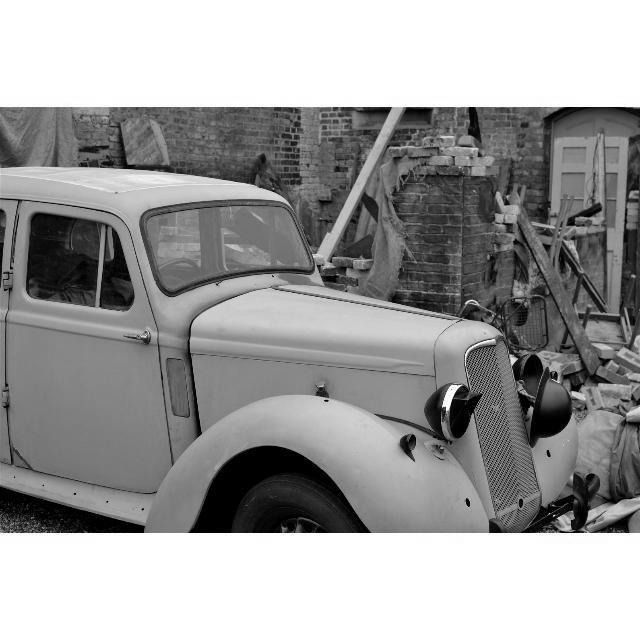roof-dent: (1, 133, 278, 202)
